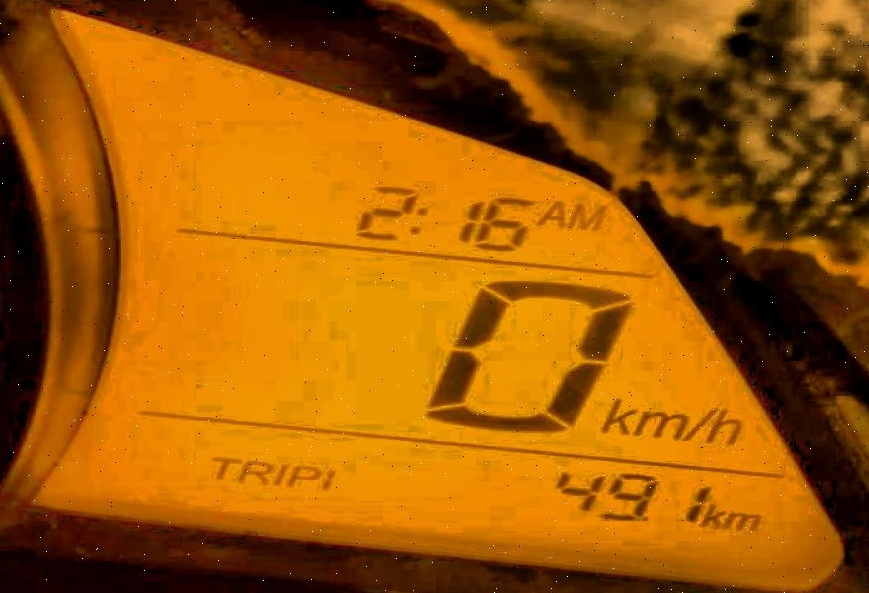-: (639, 513, 650, 526)
0: (420, 269, 634, 433)
1: (456, 194, 477, 247), (684, 481, 705, 522), (321, 467, 336, 489)
2: (354, 181, 414, 242)
4: (550, 470, 604, 511)
6: (477, 193, 531, 250)
9: (602, 467, 657, 521)
X: (705, 404, 744, 449), (632, 407, 682, 439), (601, 394, 632, 437), (682, 402, 716, 439), (566, 202, 606, 229), (536, 197, 566, 229), (287, 459, 319, 488), (237, 457, 269, 484), (722, 509, 759, 532), (209, 453, 237, 478), (702, 503, 722, 528), (411, 206, 427, 236), (269, 461, 284, 491)
